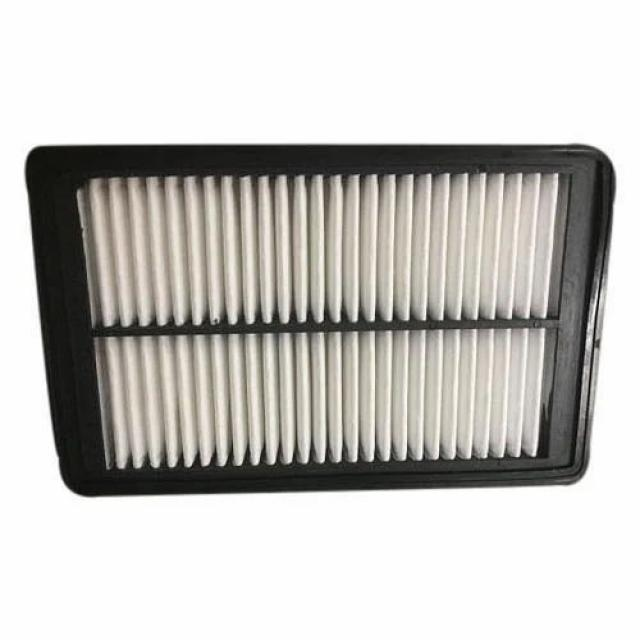air_filter: (19, 139, 605, 498)
